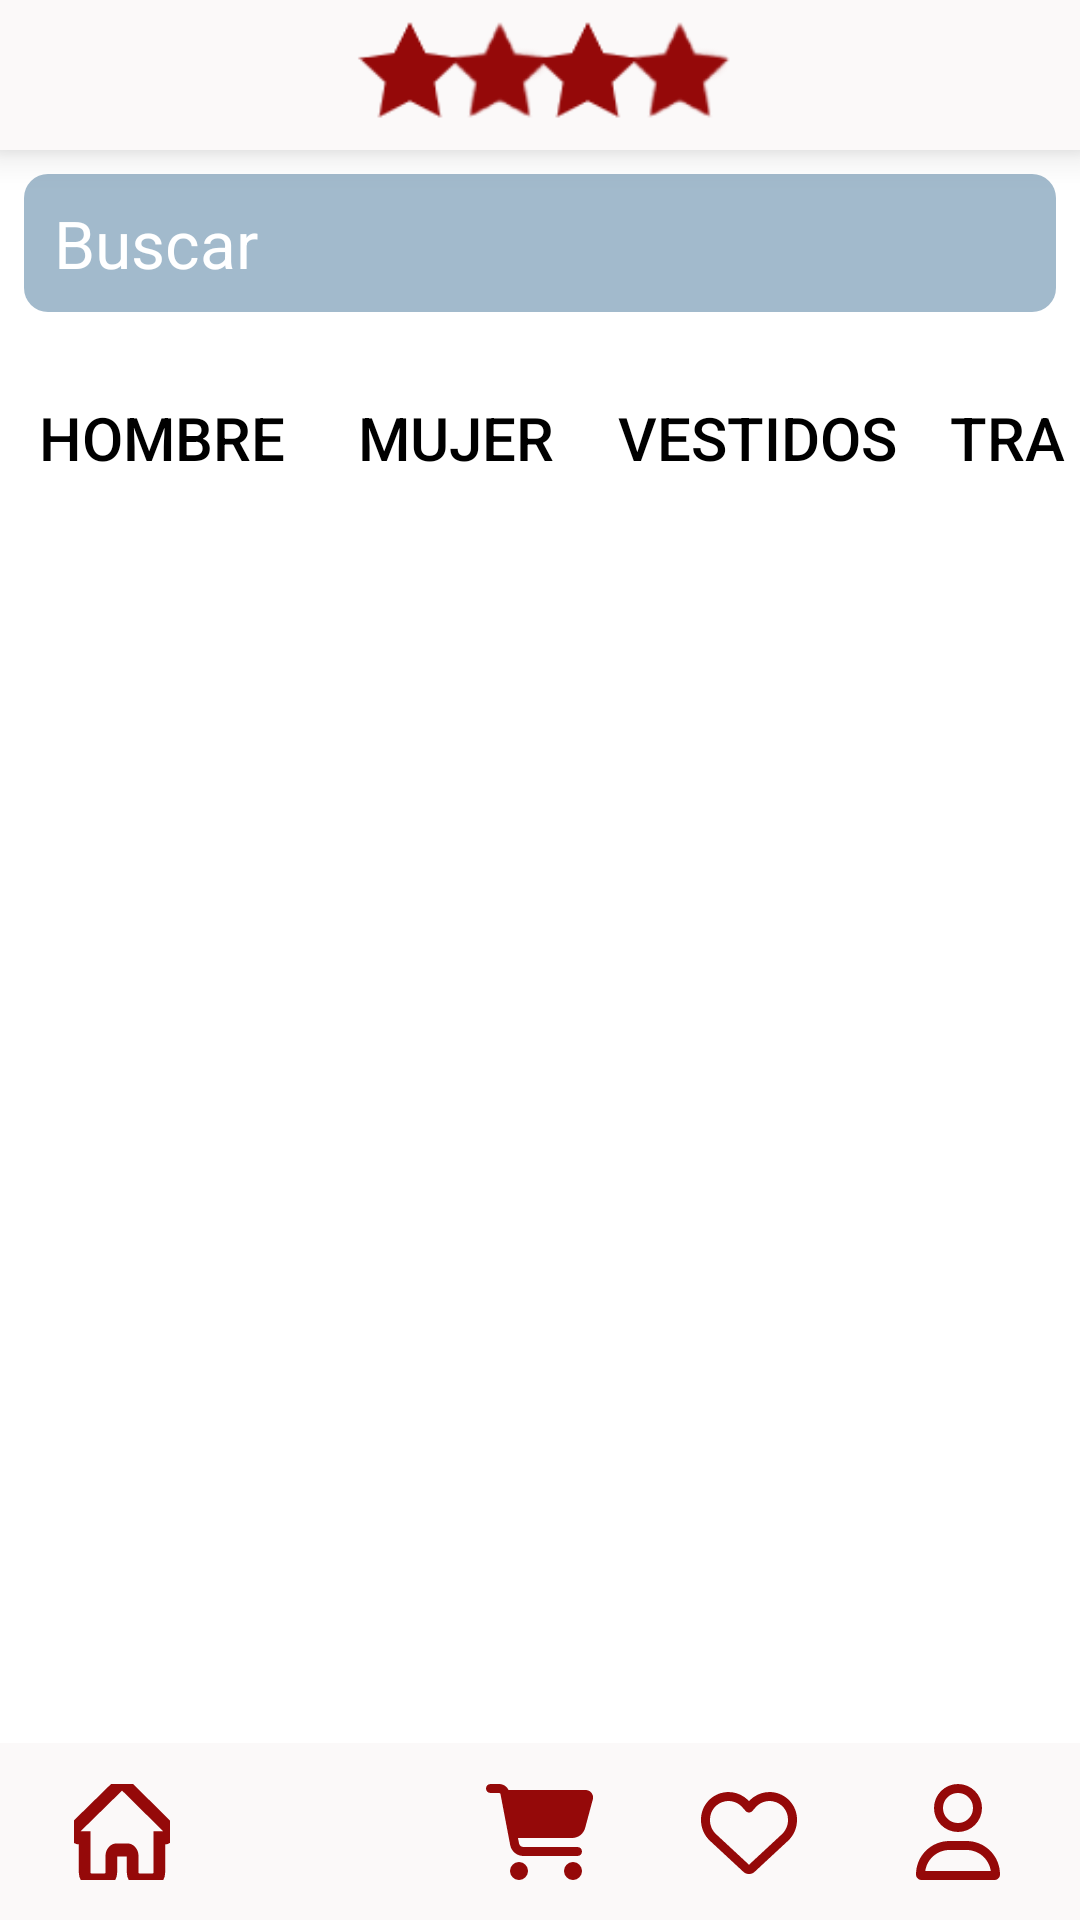

Icons on this 1080w x 1920h Android screen, each with the point to tap as [x,y]:
cart: [539,1832]
heart: [749,1833]
house: [122,1832]
user: [958,1832]
